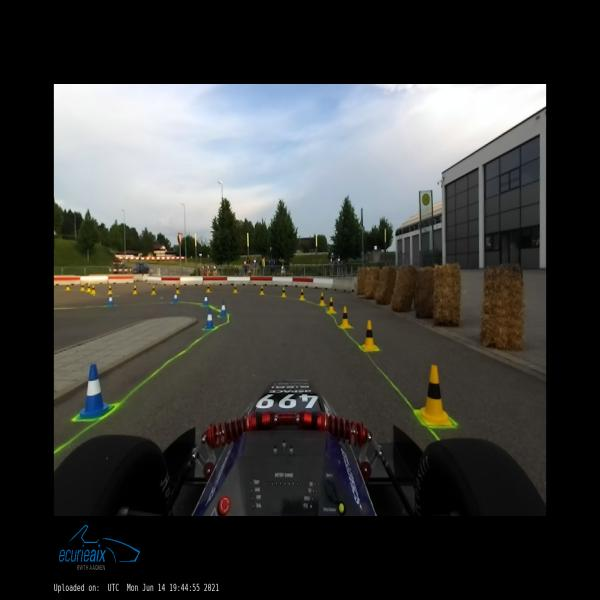blue_cone: (78, 365, 114, 419), (204, 308, 215, 329), (220, 301, 228, 316), (108, 294, 114, 306), (204, 296, 208, 306), (174, 293, 178, 302)
yellow_cone: (418, 365, 452, 426), (361, 320, 378, 350), (340, 306, 351, 328), (327, 298, 336, 313), (299, 288, 305, 300), (319, 293, 325, 305), (281, 287, 286, 297), (176, 284, 180, 294), (151, 286, 156, 294), (108, 284, 112, 294), (91, 285, 96, 293), (65, 282, 70, 290), (233, 284, 237, 293), (133, 285, 137, 294), (86, 283, 90, 292), (260, 286, 264, 294), (206, 284, 210, 292), (81, 282, 84, 290)
